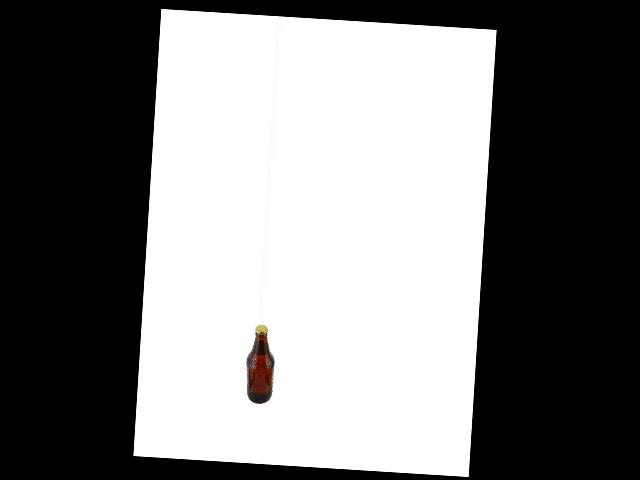beer: (245, 324, 275, 403)
